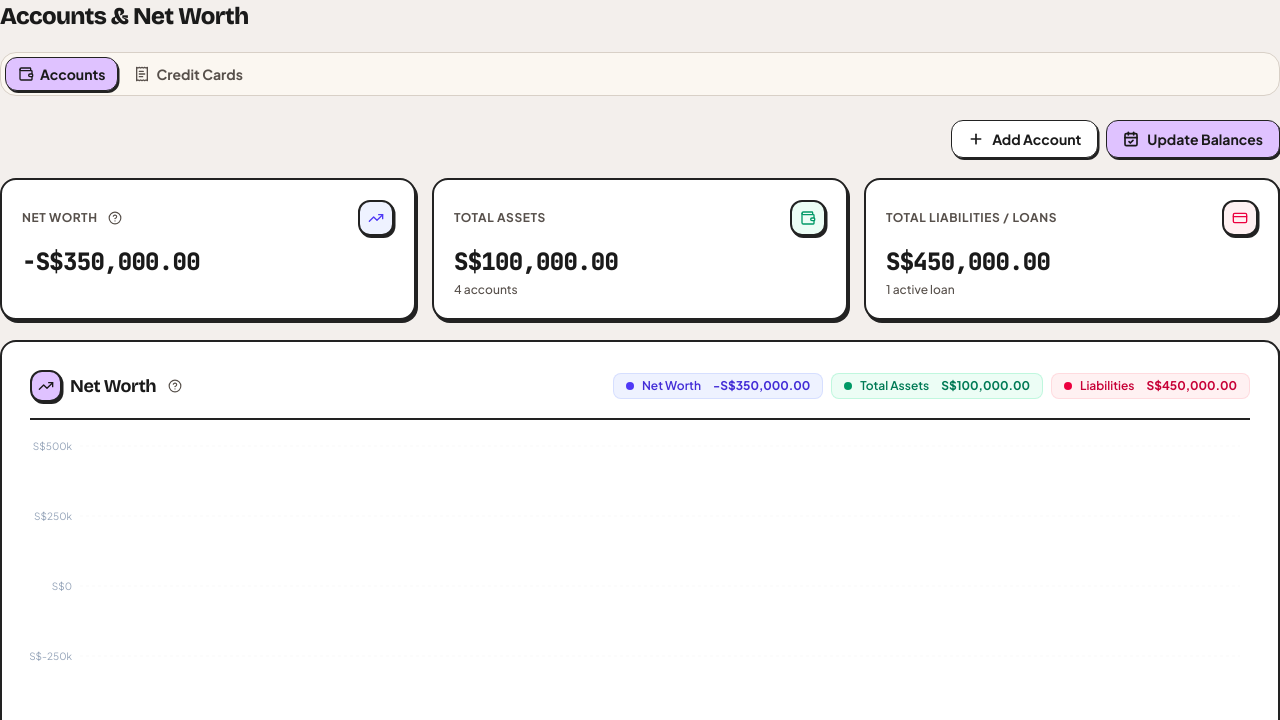
Scenario: AccountsPage › allows opening UpdateBalanceModal and updates account list when balance is saved
Note: Click update on first account
Click the button "Update Balances": coordinates (1193, 139) [1106,120,1279,158]
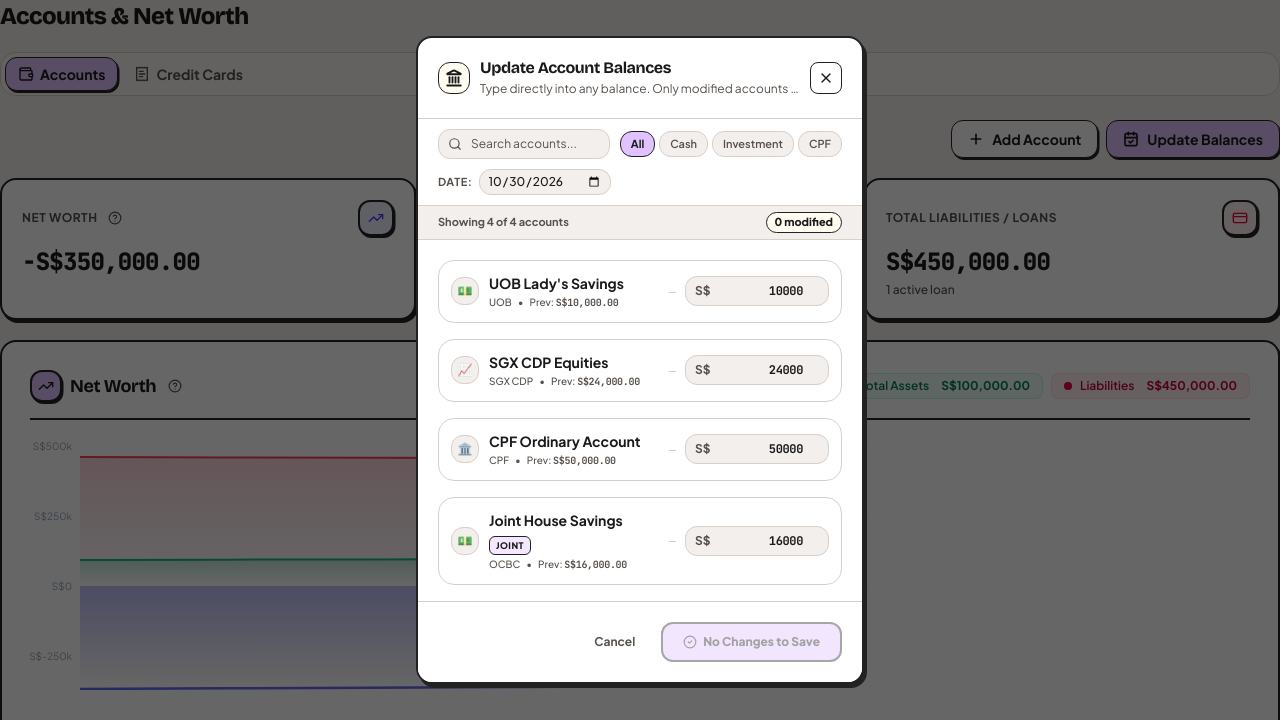
Expected: the dialog is shown
Expected: the heading "Update Account Balances" is shown, [480,58,671,77]
